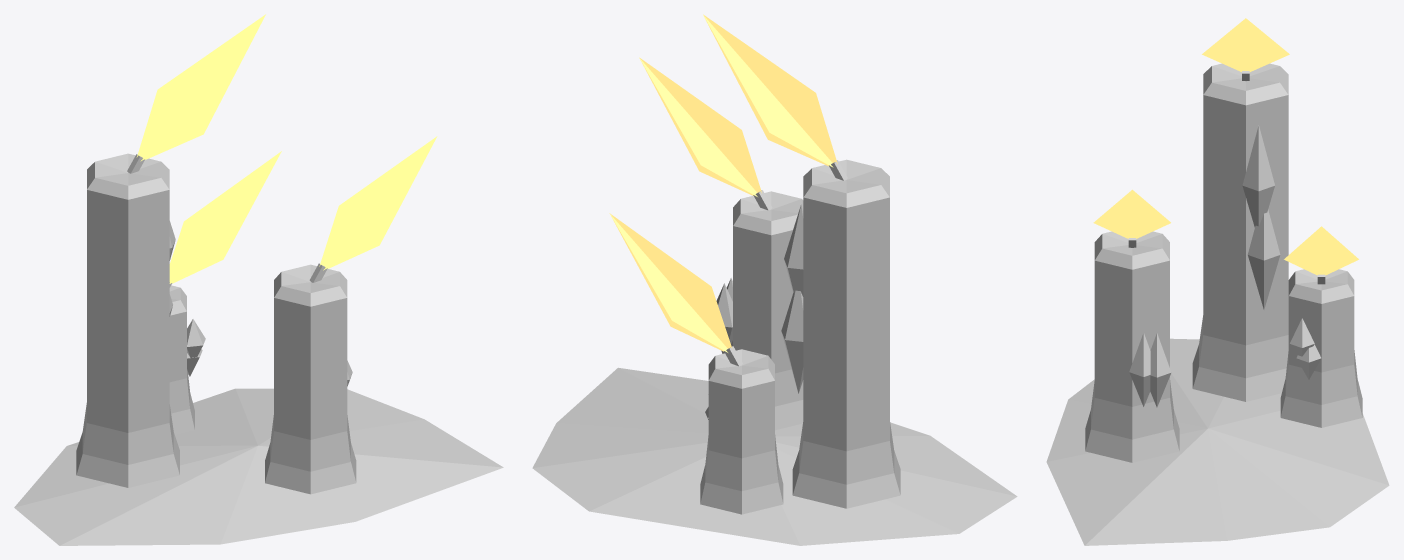
The model's file is prop.candle_draft.glb.
3 renders of one model, left to right at view 1: azimuth 30°, elevation 25°; view 2: azimuth 150°, elevation 25°; view 3: azimuth 270°, elevation 25°, orthographic. The views are drawn at different scales.
Parts seen in each view (by area): view 1: candle_draft; view 2: candle_draft; view 3: candle_draft.
Boxes of the visible parts, x1,y1,x2,y2 form: candle_draft: [14, 14, 503, 545]; candle_draft: [532, 14, 1017, 545]; candle_draft: [1046, 18, 1389, 545].
Size of the model in its own units: 0.2599 by 0.2613 by 0.1814.
